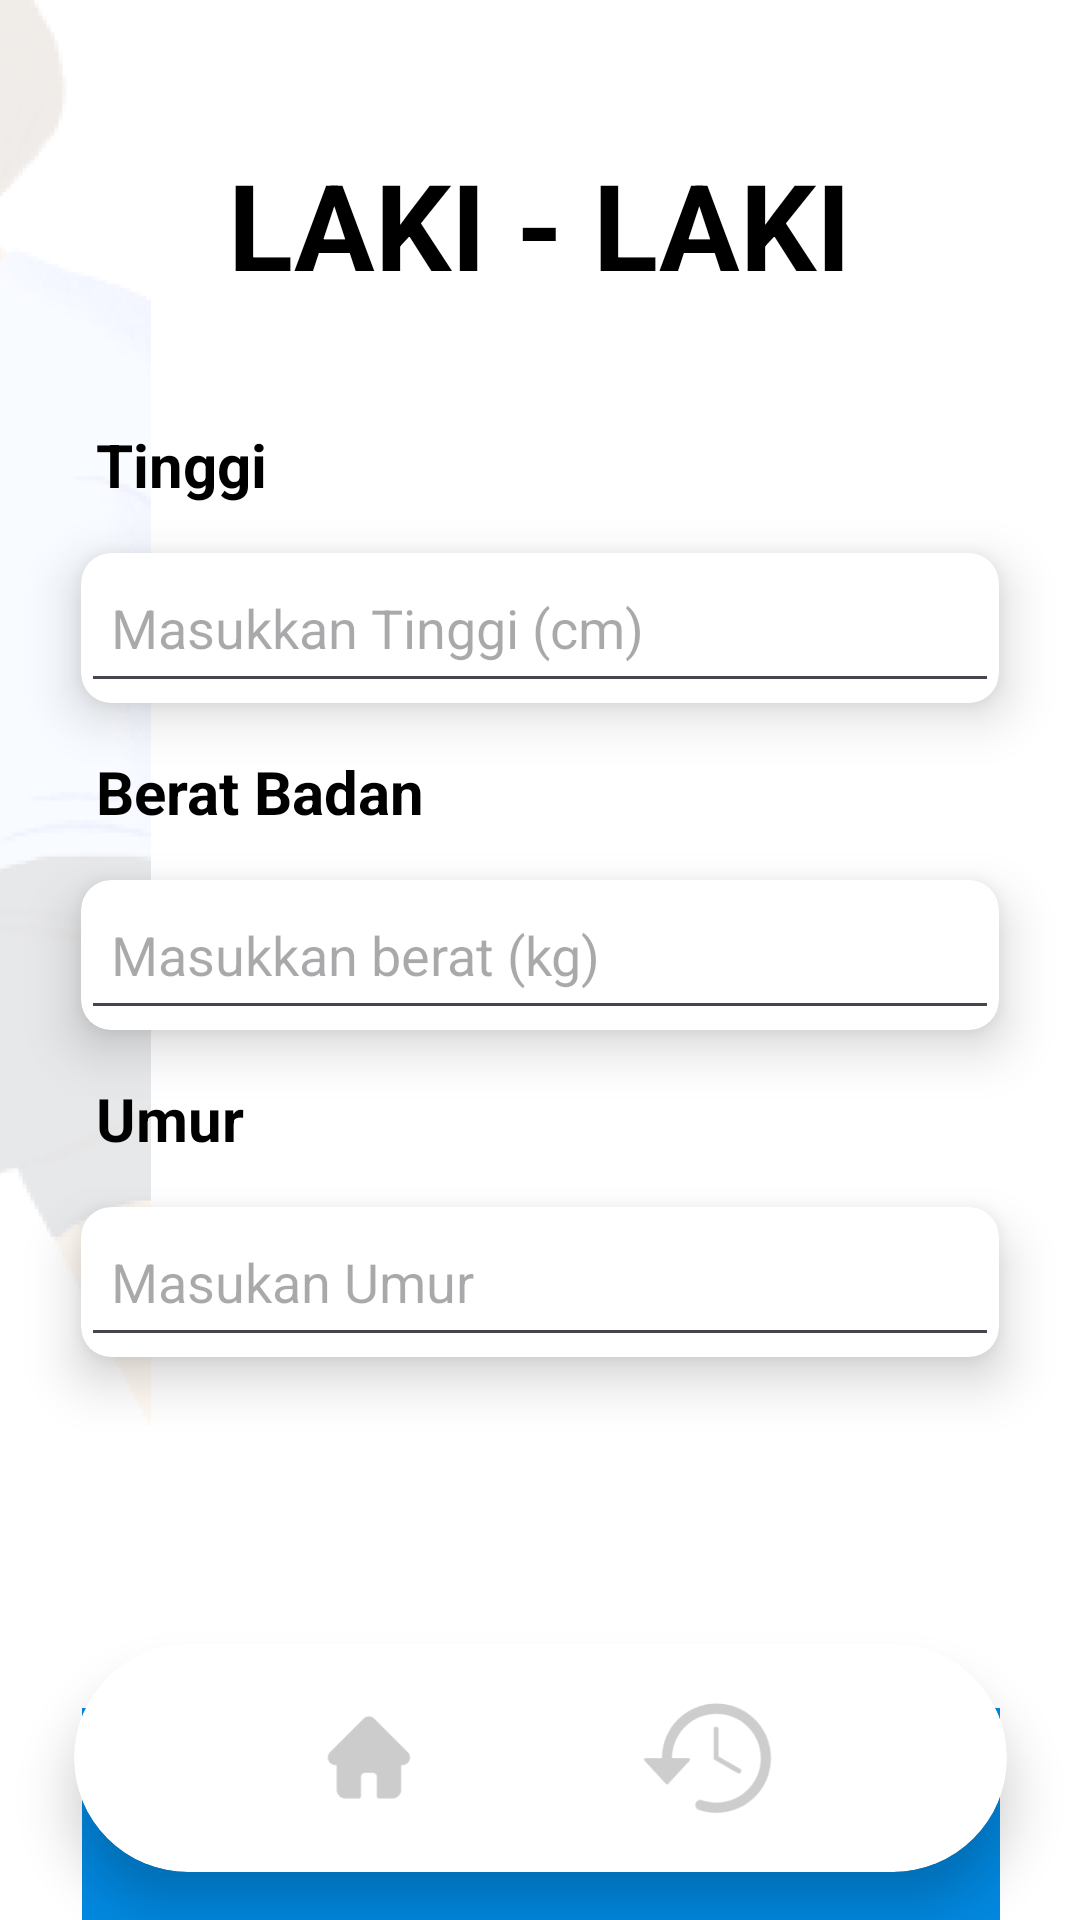

Where icons sit on this 1080×1920 app screen, as (x1, y1, x2, y2):
Home: (328, 1716, 410, 1799)
